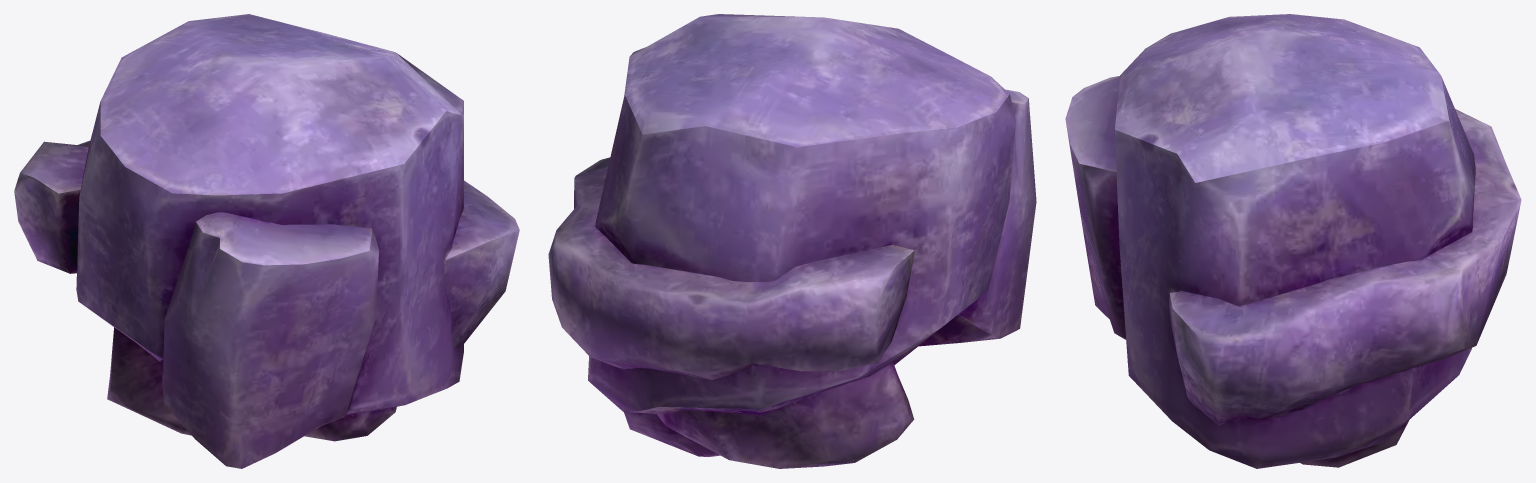
3 views of the same model, side by side, from view 1: azimuth 30°, elevation 25°; view 2: azimuth 150°, elevation 25°; view 3: azimuth 270°, elevation 25° (orthographic). The views are drawn at different scales.
Parts seen in each view (by area): view 1: SM_Mithril_Ore_Small_01_LOD0; view 2: SM_Mithril_Ore_Small_01_LOD0; view 3: SM_Mithril_Ore_Small_01_LOD0.
Part boxes in pixels (x1,y1,x2,y2): SM_Mithril_Ore_Small_01_LOD0: (14,14,519,468); SM_Mithril_Ore_Small_01_LOD0: (548,14,1036,468); SM_Mithril_Ore_Small_01_LOD0: (1065,14,1521,468).
Size of the model in its own units: 0.2491 by 0.2454 by 0.261.
Materials: 1 (1 with a texture image).
